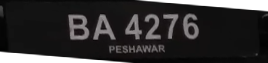2: (142, 12, 162, 42)
4: (122, 12, 143, 42)
6: (181, 11, 201, 42)
7: (161, 11, 179, 41)
A: (92, 13, 115, 44)
B: (66, 13, 91, 43)
